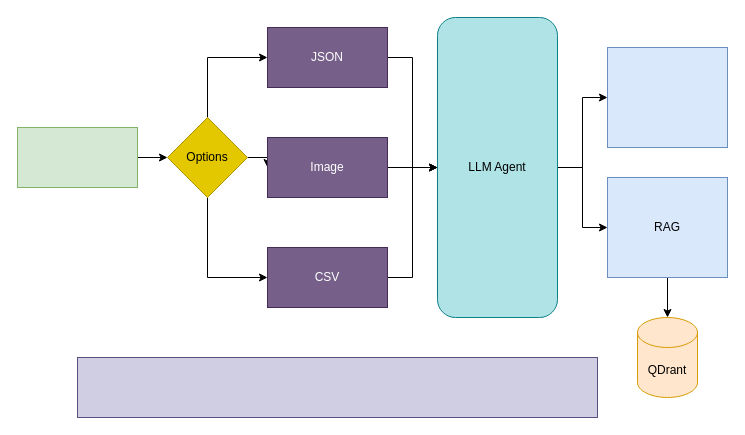
The diagram is 745 pixels wide and 435 high, and some of its shapes have lost their labels. Each missing label, with the centre of its shape:
"Evaluation and Monitoring using OPIK" belongs at point 337,387.
"MCP Server" belongs at point 667,97.
"Payment Process with LLM" belongs at point 77,157.
